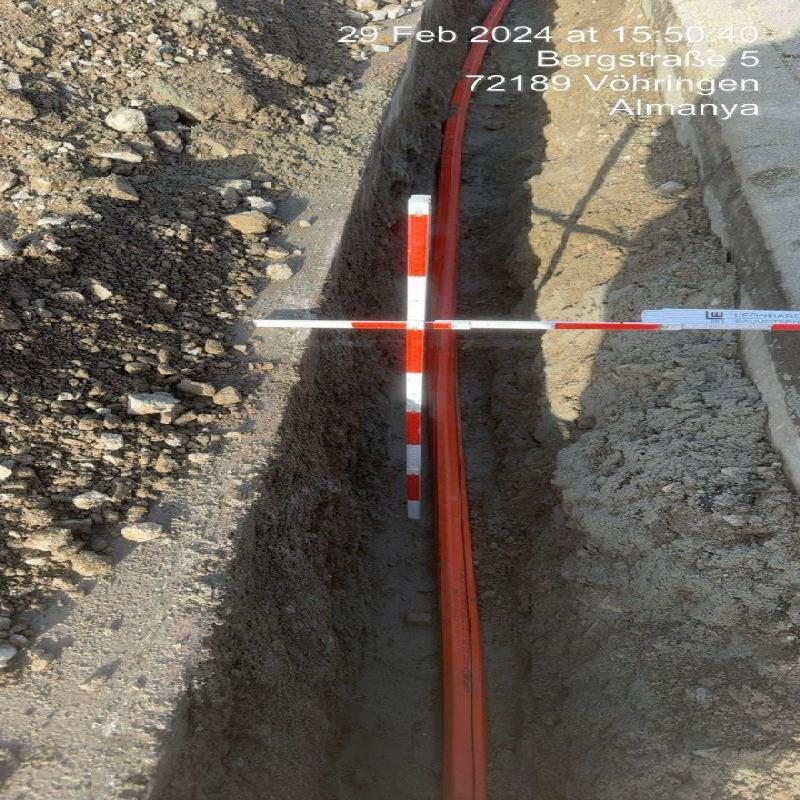Orang-Speednetrohrchen: (432, 331, 484, 800), (428, 90, 471, 320)
